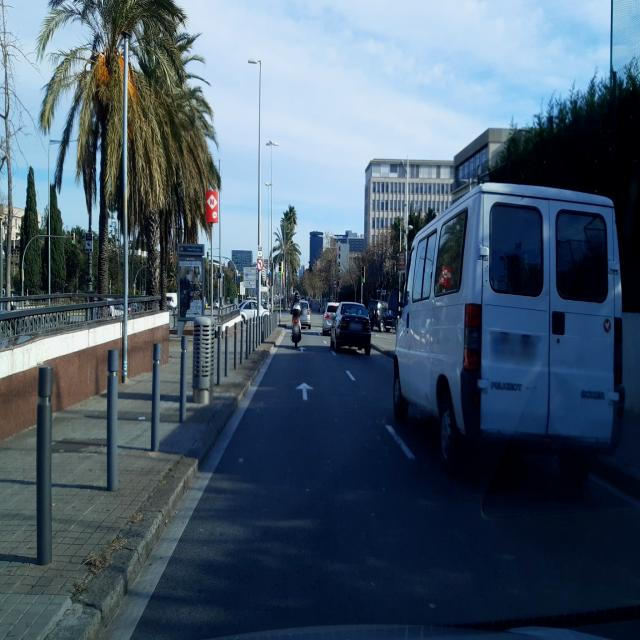bike: (290, 314, 302, 349)
car: (392, 181, 626, 486), (330, 301, 372, 356), (370, 301, 396, 333), (240, 299, 268, 325), (321, 301, 340, 335), (295, 301, 311, 330)
